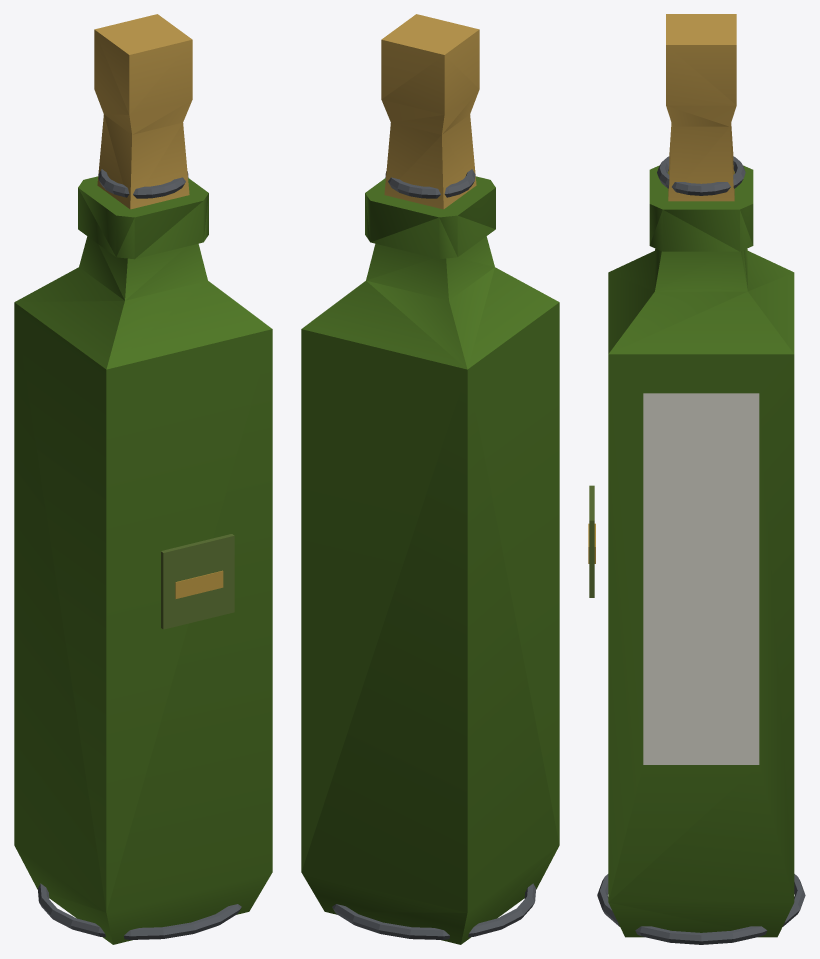
Rendered from bottle-oil.glb.
3 views of the same model, side by side, from view 1: azimuth 30°, elevation 25°; view 2: azimuth 150°, elevation 25°; view 3: azimuth 270°, elevation 25° (orthographic).
Parts seen in each view (by area): view 1: bottle-oil; view 2: bottle-oil; view 3: bottle-oil.
Boxes of the visible parts, x1,y1,x2,y2 form: bottle-oil: (14, 14, 272, 944); bottle-oil: (301, 14, 559, 944); bottle-oil: (588, 14, 805, 944).
Bounding box in the file's own units: 0.14 × 0.6218 × 0.14.
